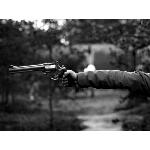Pistol: (8, 62, 72, 88)
